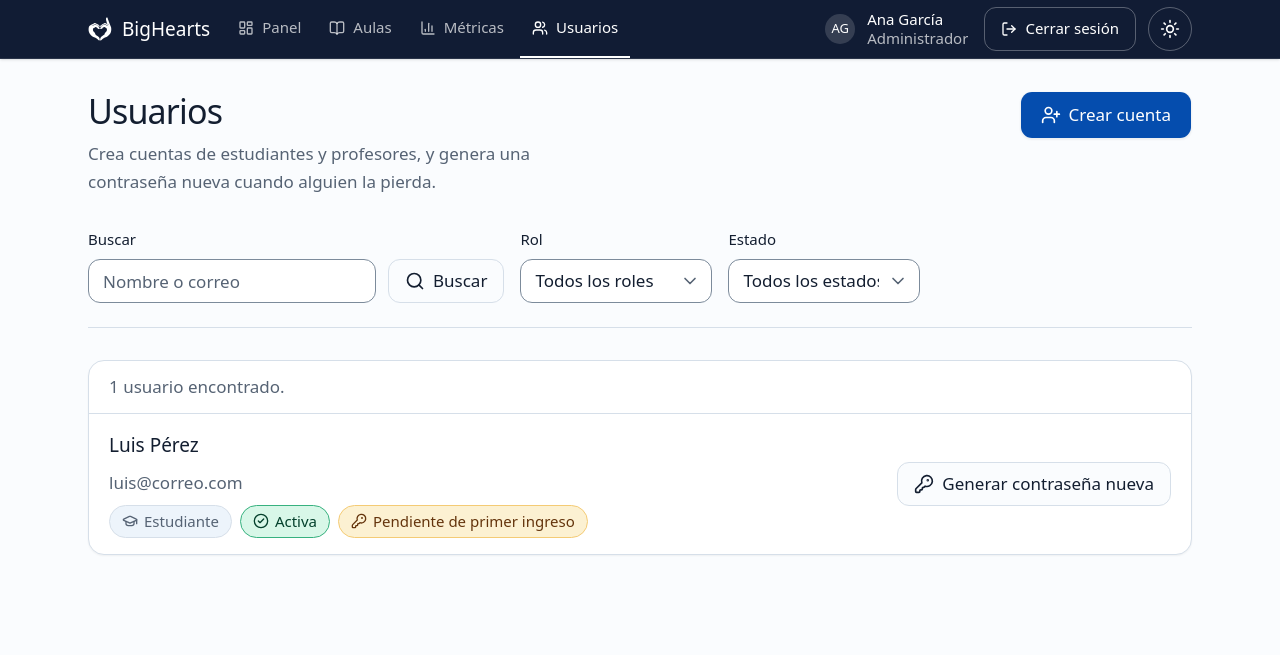
Test case: UsuariosPage — admin › un correo repetido se dice junto al campo
This screenshot has width=1280, height=655.
Click the button "Crear cuenta" at coordinates (1106, 115), box [1020, 91, 1192, 139]
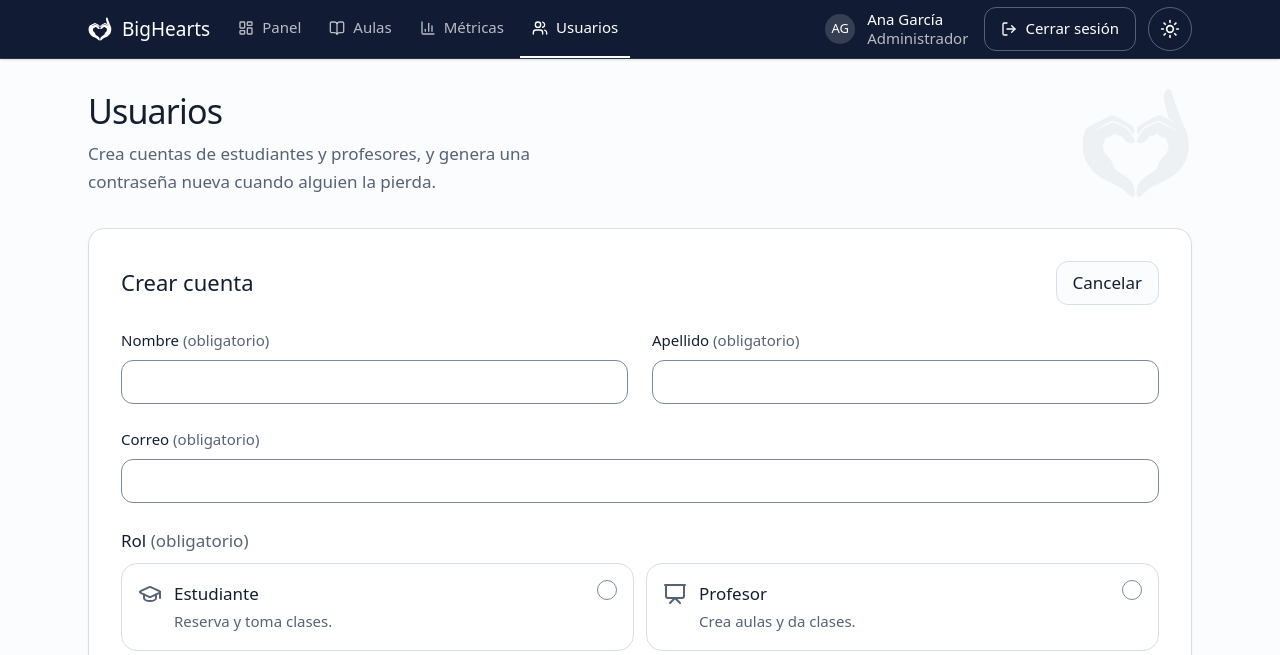
Type "Marta" into the field labelled "Nombre (obligatorio)" at coordinates (374, 382), box [121, 360, 628, 404]
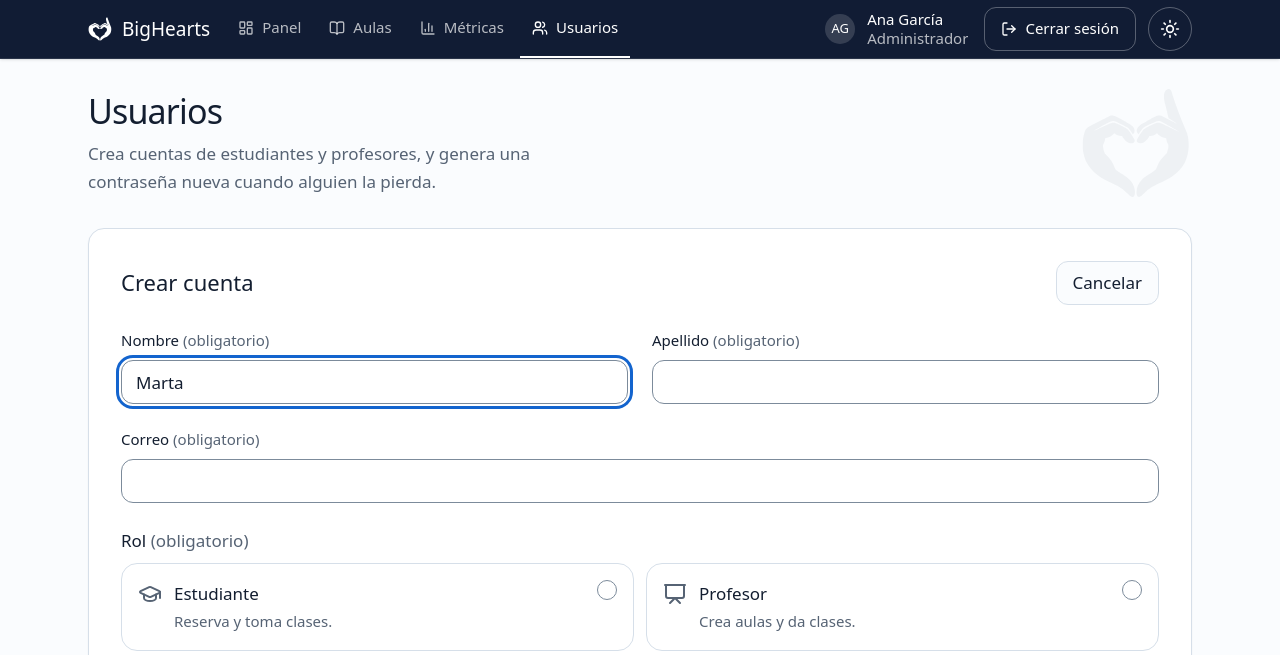
Type "Ríos" into the field labelled "Apellido (obligatorio)" at coordinates (906, 382), box [652, 360, 1159, 404]
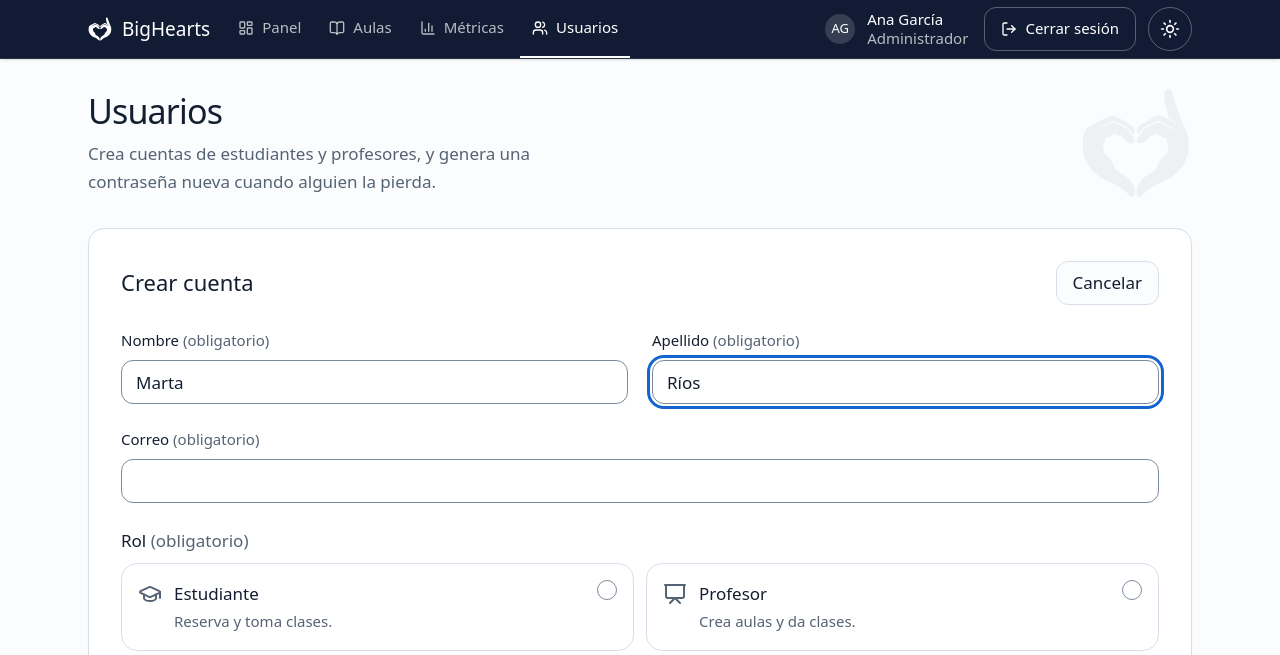
Type "marta@correo.com" into the field labelled "Correo (obligatorio)" at coordinates (640, 481), box [121, 459, 1159, 503]
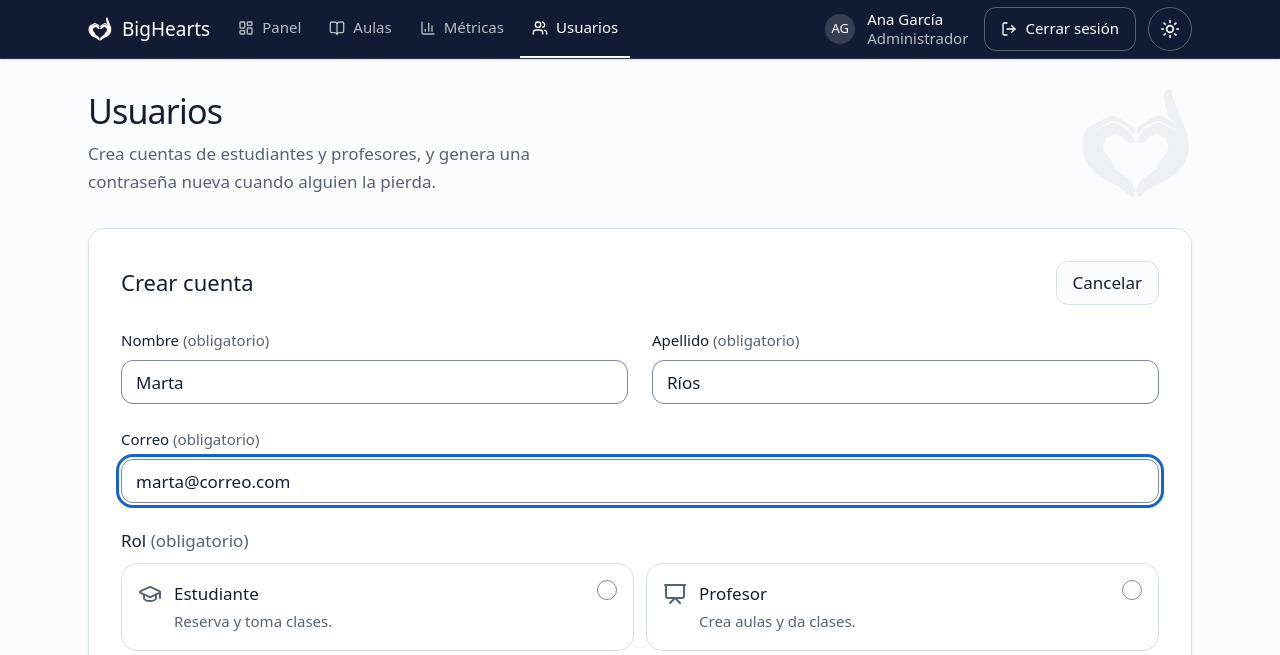
Click the radio button labelled "Estudiante Reserva y toma clases." at coordinates (216, 594), box [121, 563, 634, 651]
(page scrolled)
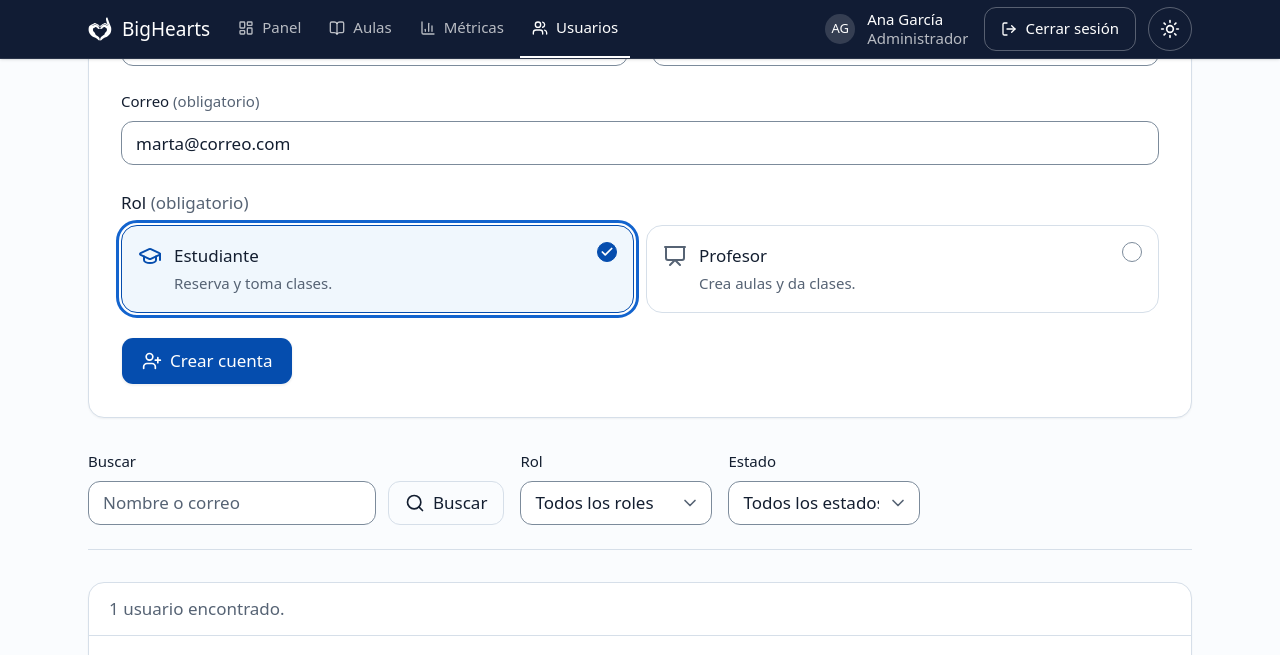
Click the button "Crear cuenta" at coordinates (207, 361), box [121, 337, 293, 385]
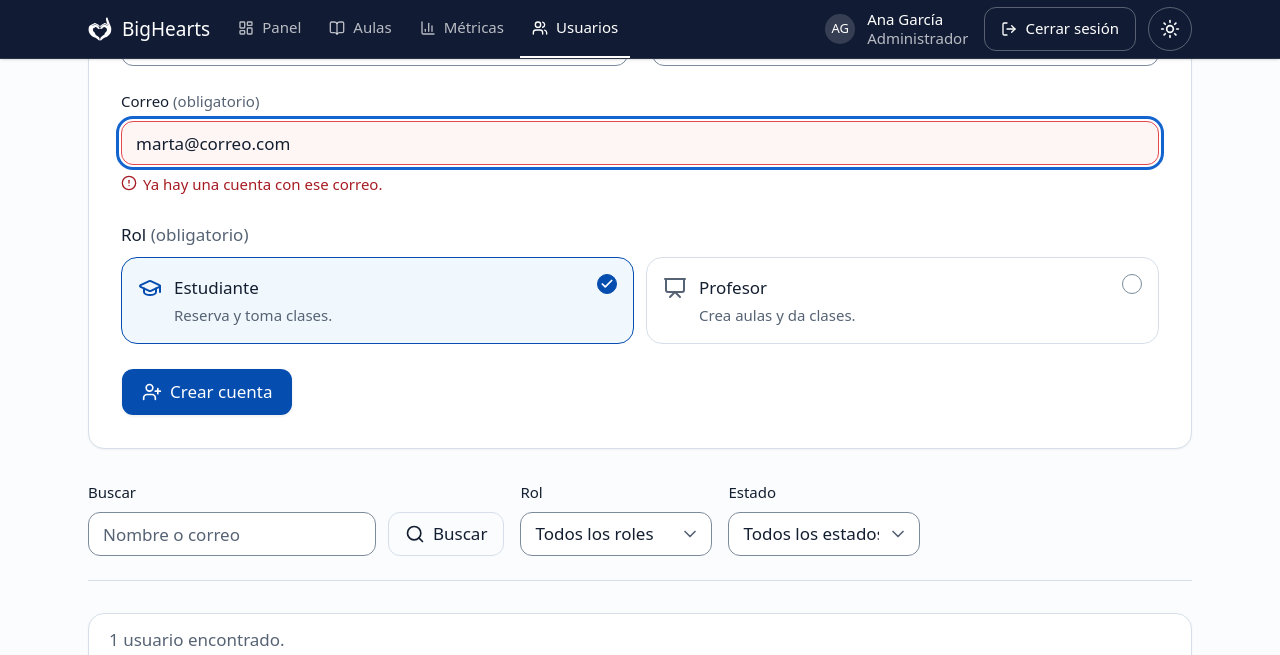
Now the text "Ya hay una cuenta con ese correo." is shown, box [143, 173, 382, 197]
